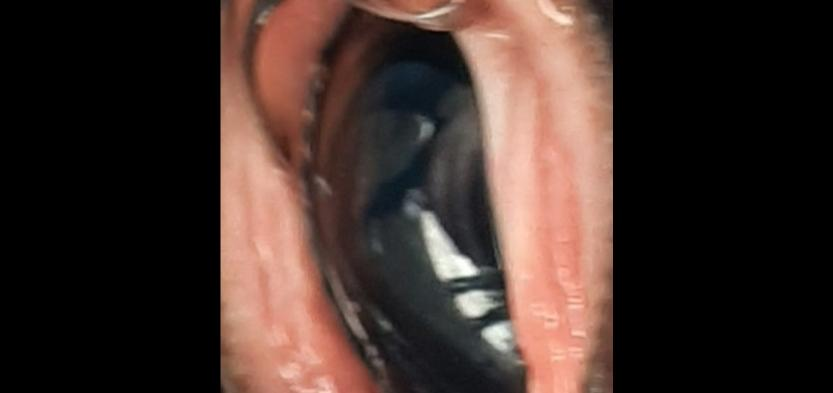eye_membrane: (223, 0, 610, 393)
